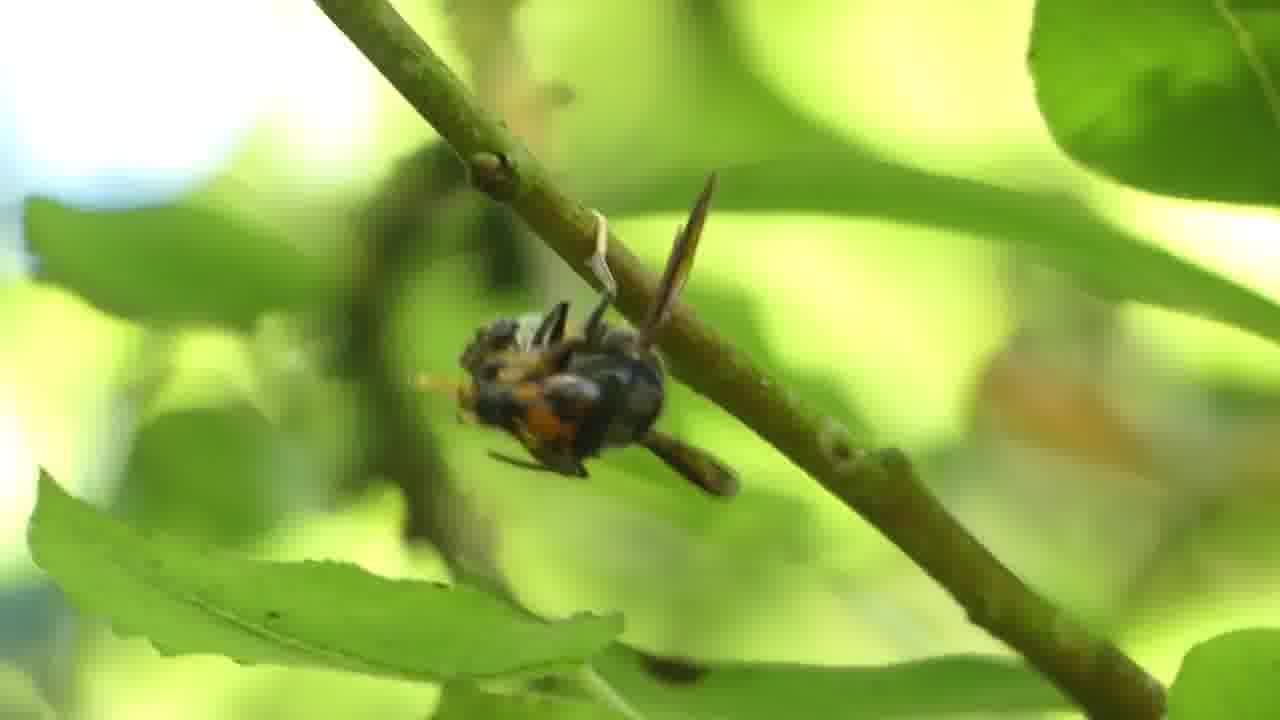hornet: (443, 240, 767, 499)
